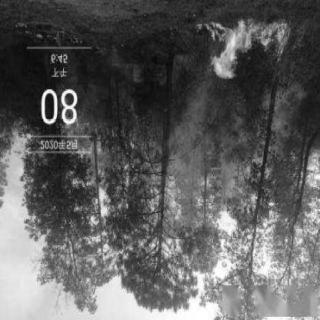Fire: (194, 20, 294, 84)
